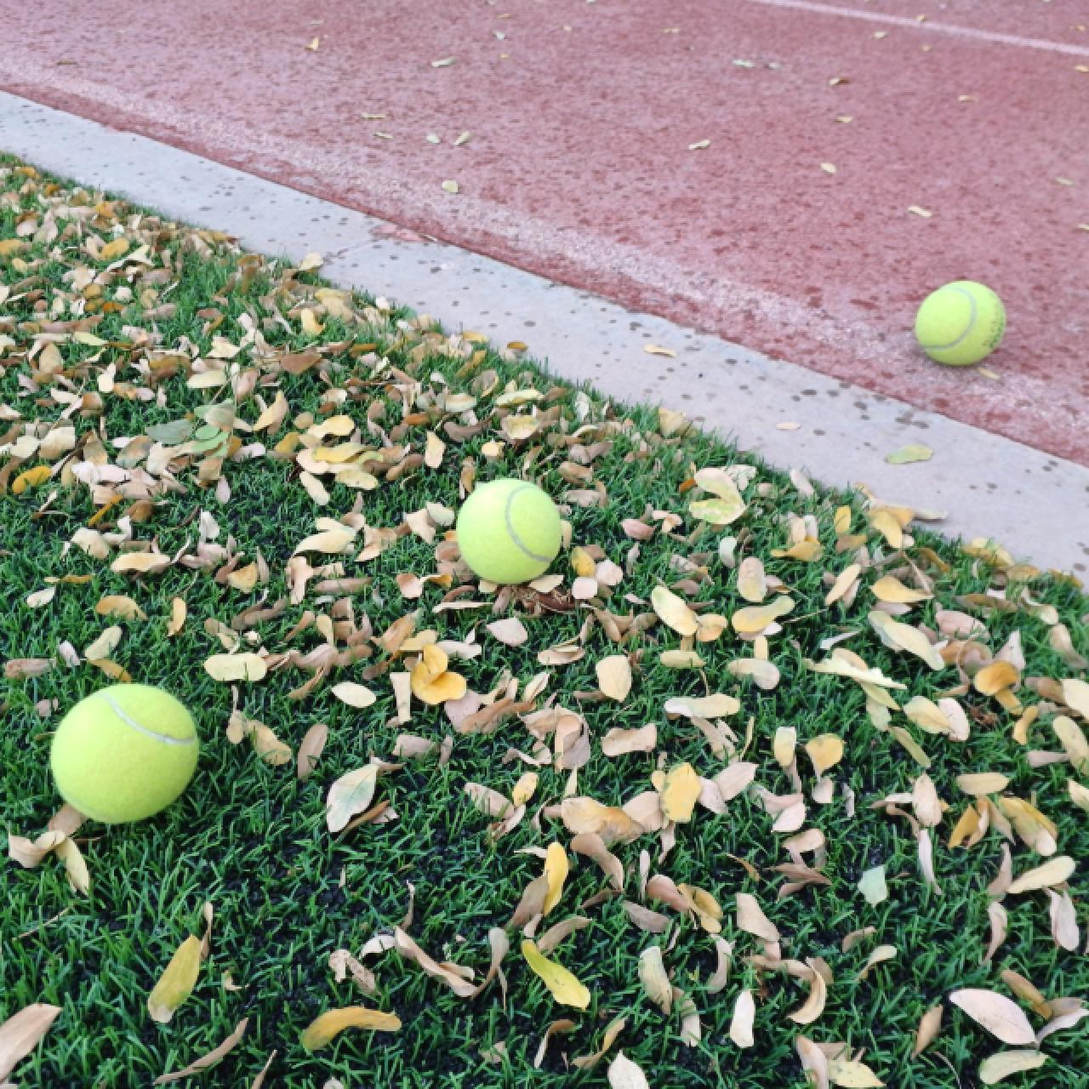tennis-ball: (51, 680, 201, 821), (455, 476, 562, 583), (914, 278, 1007, 366)
